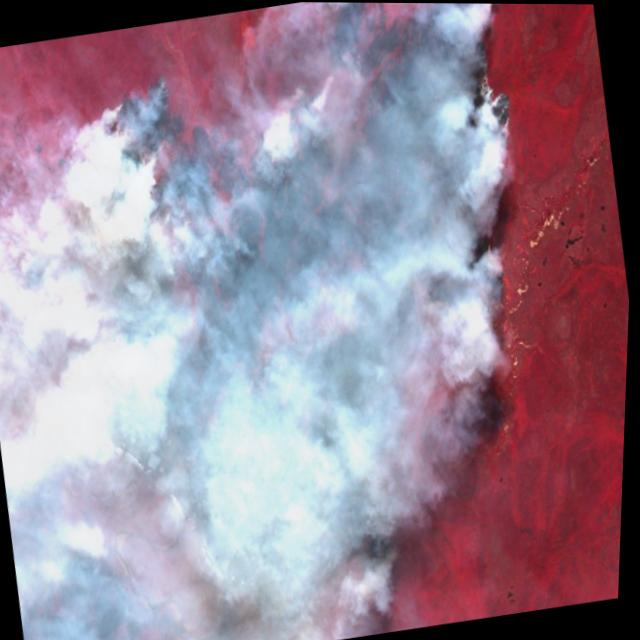fire: (18, 0, 592, 632)
